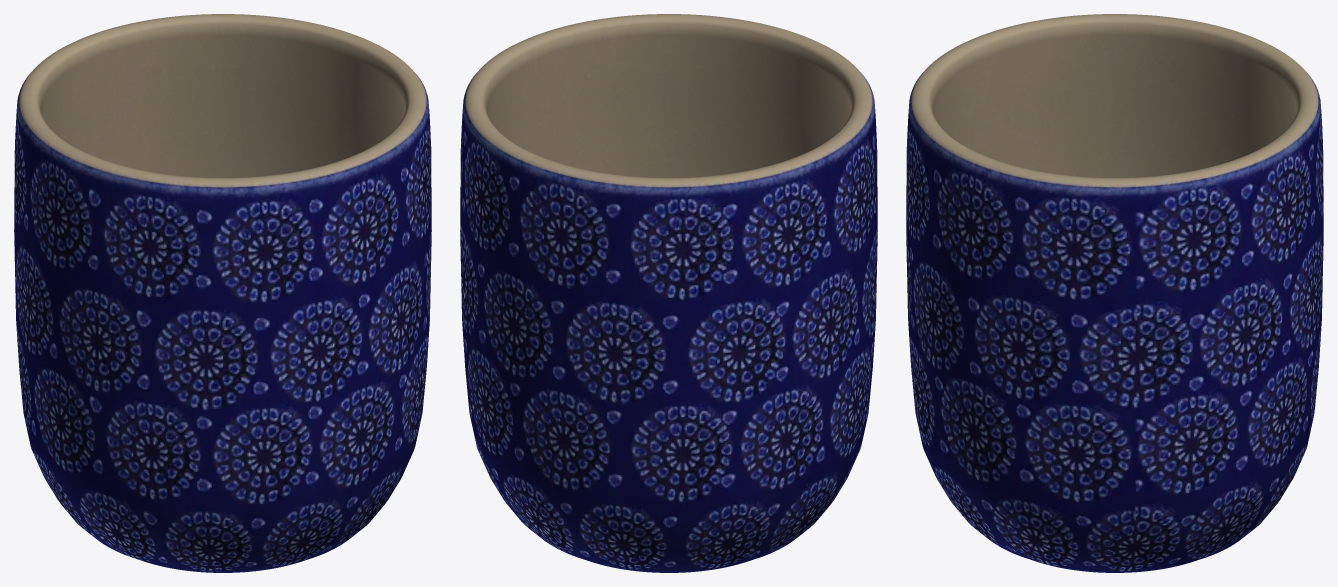
Rendered from abo-B075HWDS6P.glb.
The picture shows the model from 3 angles, left to right: view 1: azimuth 30°, elevation 25°; view 2: azimuth 150°, elevation 25°; view 3: azimuth 270°, elevation 25°; orthographic projection.
Size of the model in its own units: 0.184 by 0.206 by 0.184.
1 material, 1 textured.
